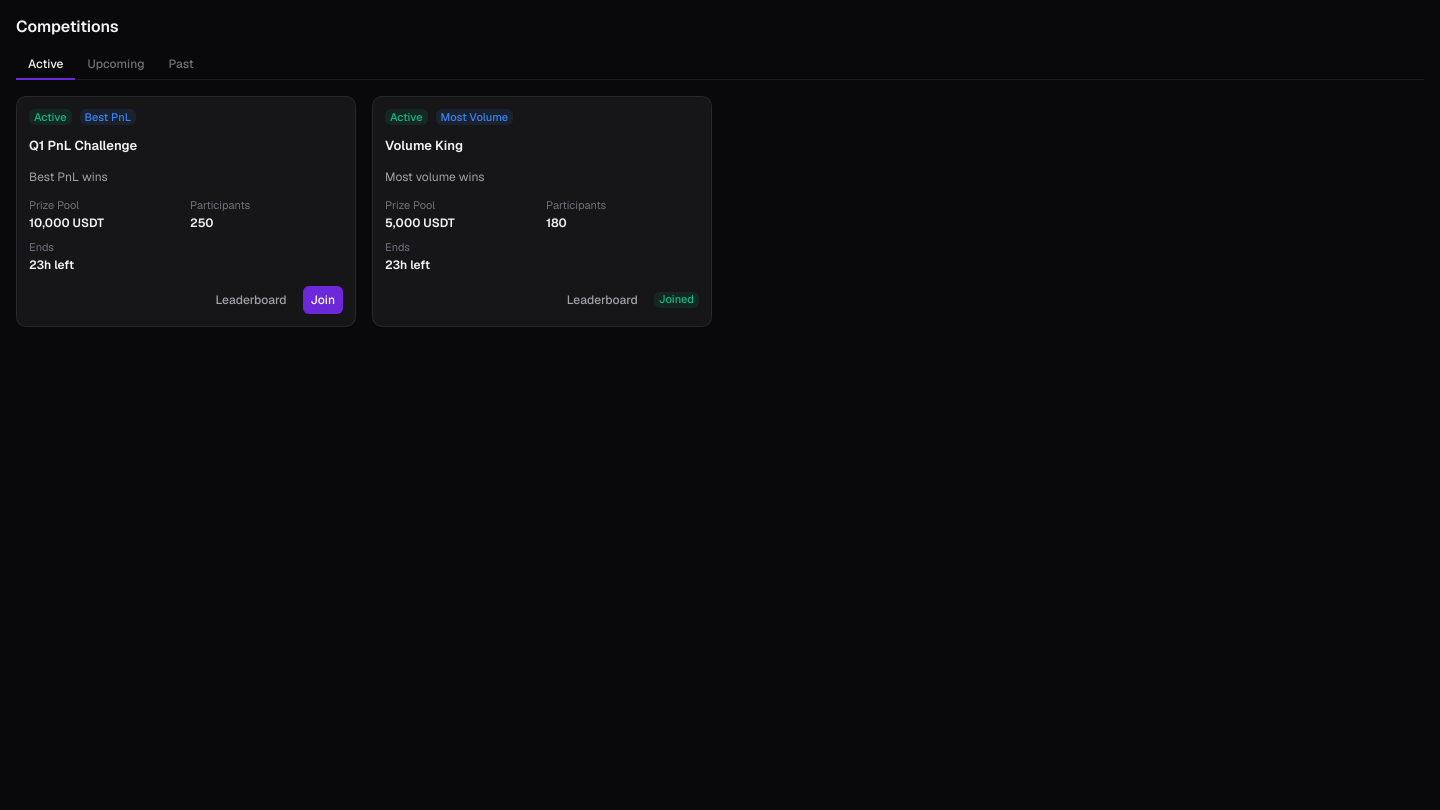
Test case: CompetitionsPage › leaderboard loads on competition click
Click the button "Leaderboard" below "10,000" at (251, 300), box [208, 286, 295, 314]
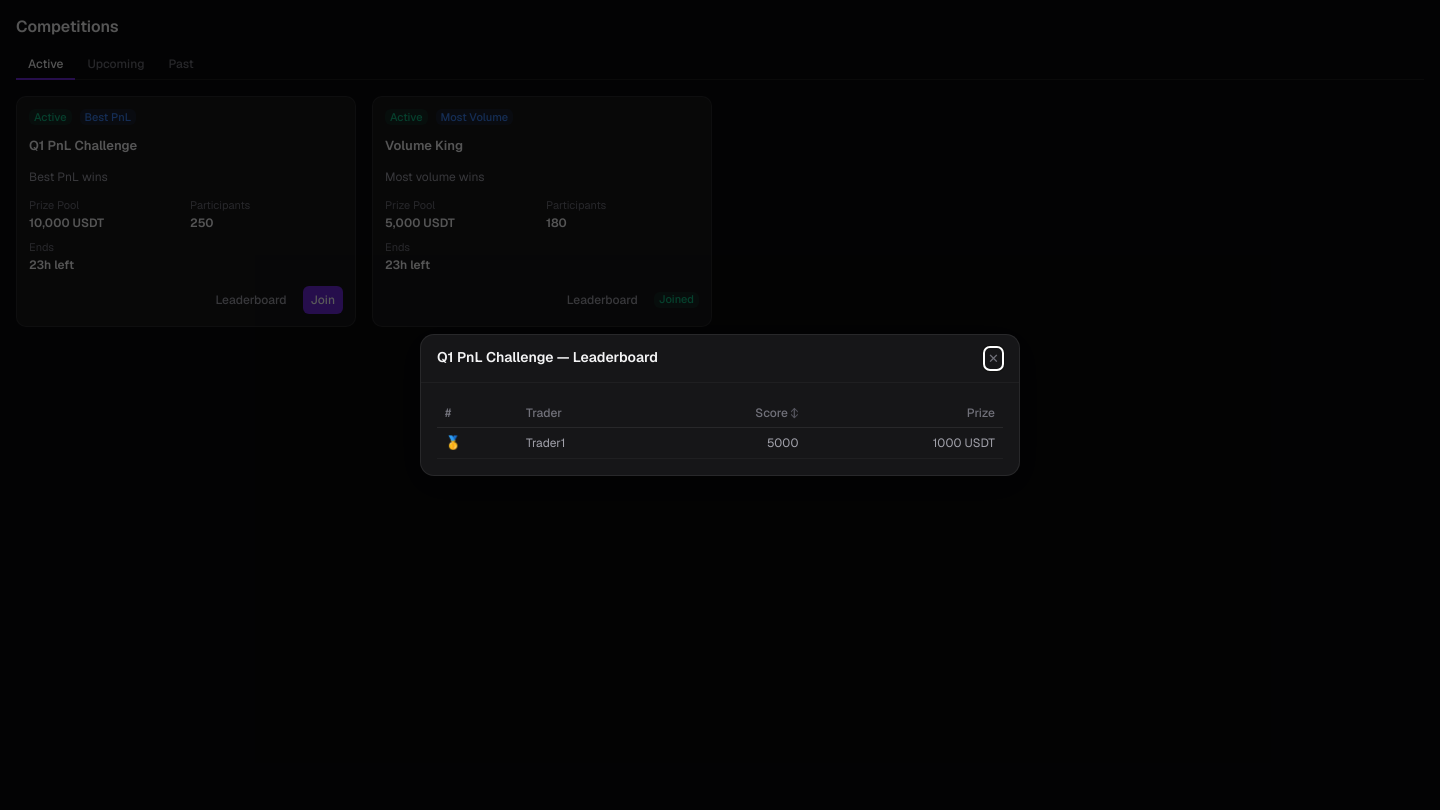
Expected: the text "Trader1" is shown, [518, 428, 657, 459]
